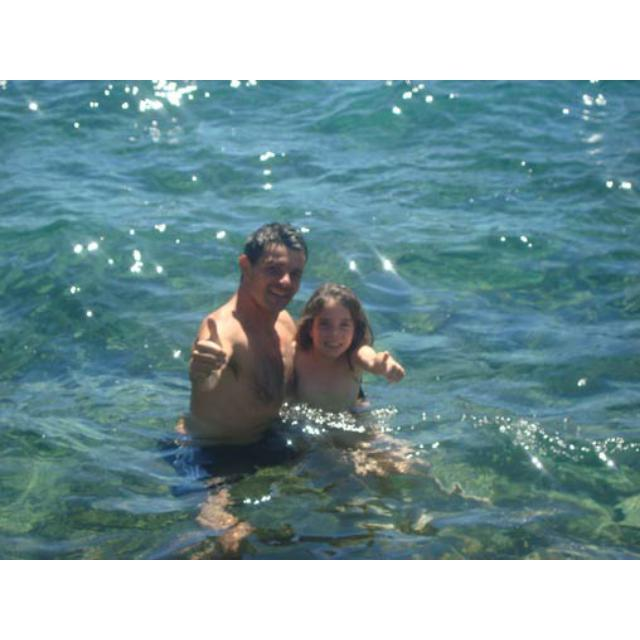human: (170, 222, 308, 484), (296, 282, 406, 425)
